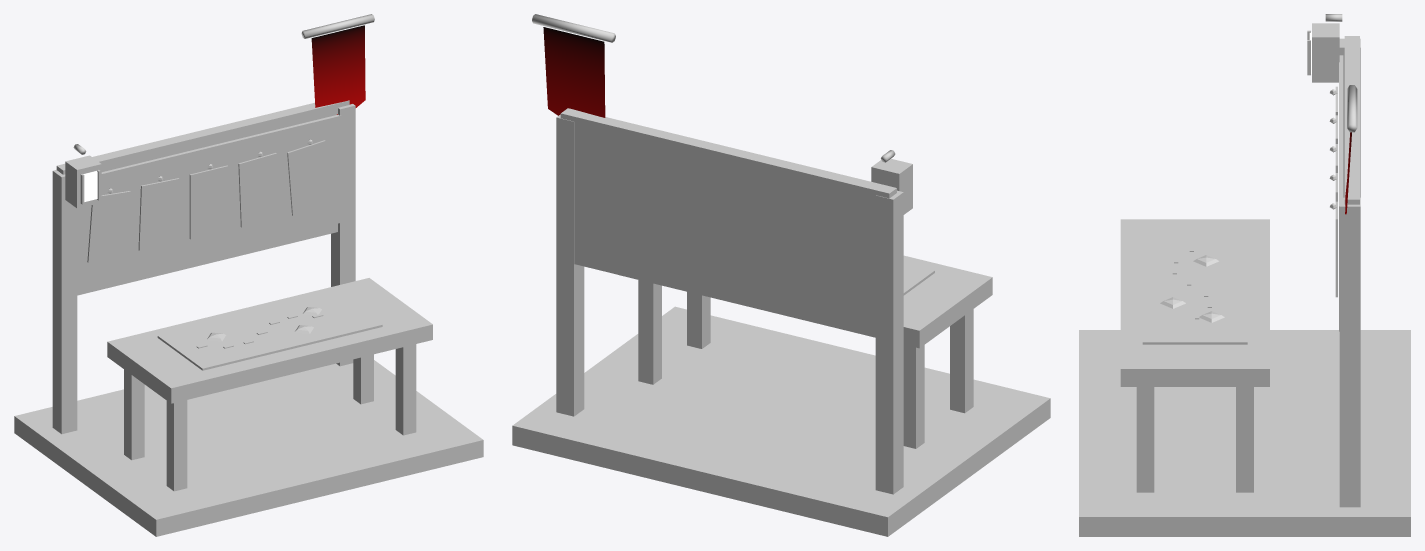
File: Table_Des_Chasses.glb
3 renders of one model, left to right at view 1: azimuth 30°, elevation 25°; view 2: azimuth 150°, elevation 25°; view 3: azimuth 270°, elevation 25°, orthographic. The views are drawn at different scales.
Visible parts, largest first — view 1: Structure, Drapeau_Chasses; view 2: Structure, Drapeau_Chasses; view 3: Structure.
Boxes of the visible parts, x1,y1,x2,y2 form: Structure: (14, 14, 483, 536); Drapeau_Chasses: (311, 25, 365, 114); Structure: (512, 14, 1050, 536); Drapeau_Chasses: (543, 27, 605, 117); Structure: (1079, 14, 1410, 536).
Bounding box in the file's own units: 4.07 × 4.15 × 3.
